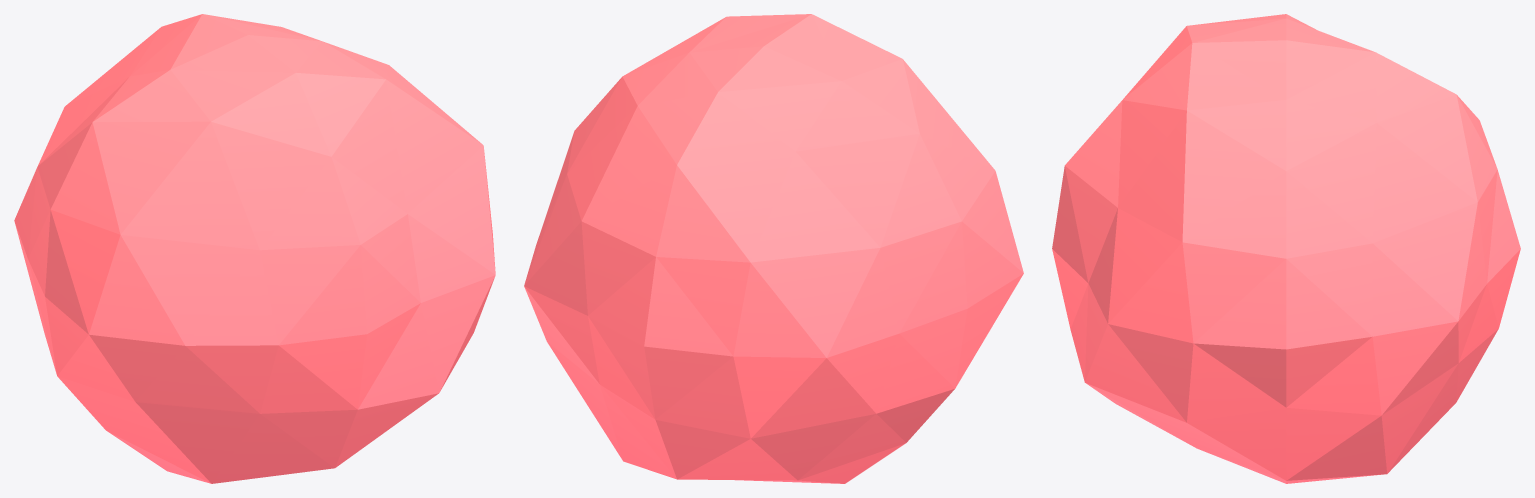
File: pulse.glb
The picture shows the model from 3 angles, left to right: view 1: azimuth 30°, elevation 25°; view 2: azimuth 150°, elevation 25°; view 3: azimuth 270°, elevation 25°; orthographic projection. The views are drawn at different scales.
Visible parts, largest first — view 1: outer_pulse; view 2: outer_pulse; view 3: outer_pulse.
Part boxes in pixels (x1,y1,x2,y2): outer_pulse: (14,14,495,483); outer_pulse: (524,14,1023,483); outer_pulse: (1052,14,1520,483).
Size of the model in its own units: 5.28 by 5.19 by 5.2.
